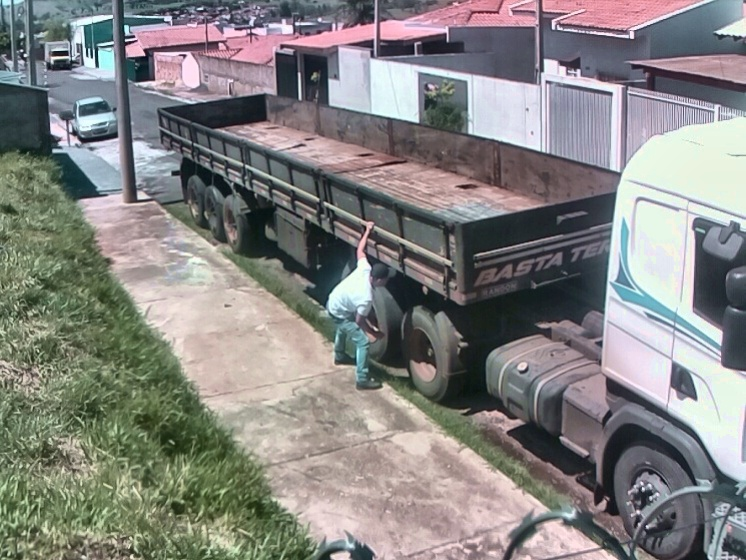person: (325, 218, 389, 393)
